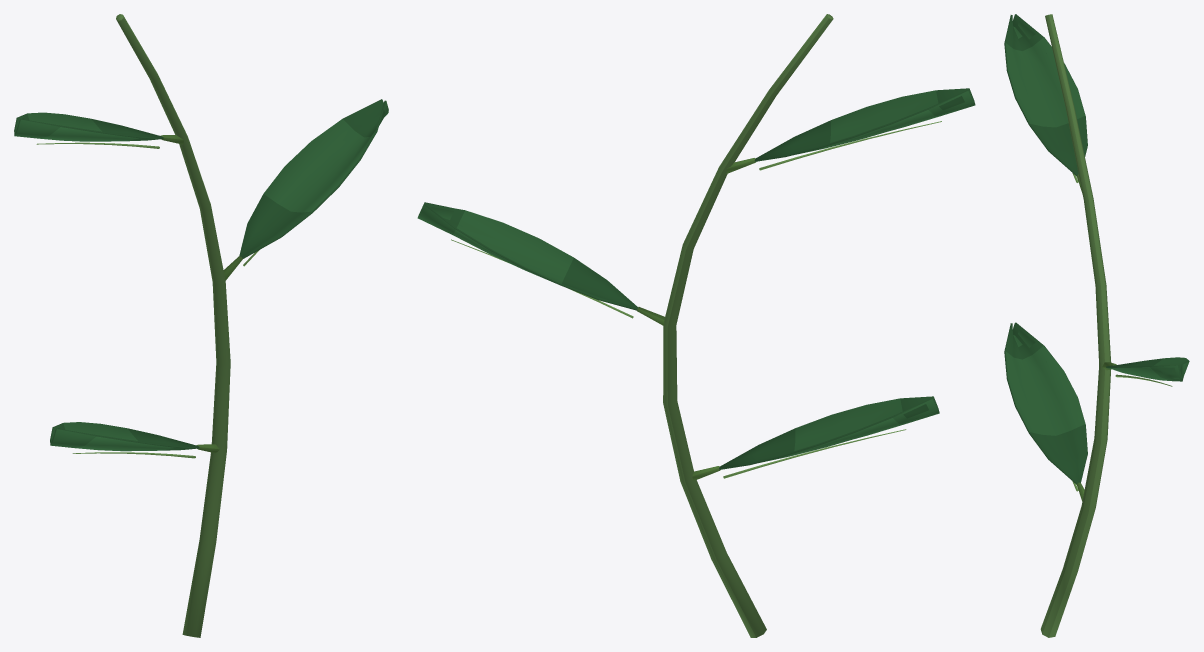
File: garden-rose-bloom-stem-3.glb
The picture shows the model from 3 angles, left to right: view 1: azimuth 30°, elevation 25°; view 2: azimuth 150°, elevation 25°; view 3: azimuth 270°, elevation 25°; orthographic projection. The views are drawn at different scales.
Parts seen in each view (by area): view 1: rose-bloom-stem-3; view 2: rose-bloom-stem-3; view 3: rose-bloom-stem-3.
Part boxes in pixels (left/top/right/bottom): rose-bloom-stem-3: left=14, top=14, right=388, bottom=637; rose-bloom-stem-3: left=417, top=14, right=975, bottom=637; rose-bloom-stem-3: left=1004, top=14, right=1189, bottom=637.
Bounding box in the file's own units: 0.4035 × 0.5294 × 0.1509.
